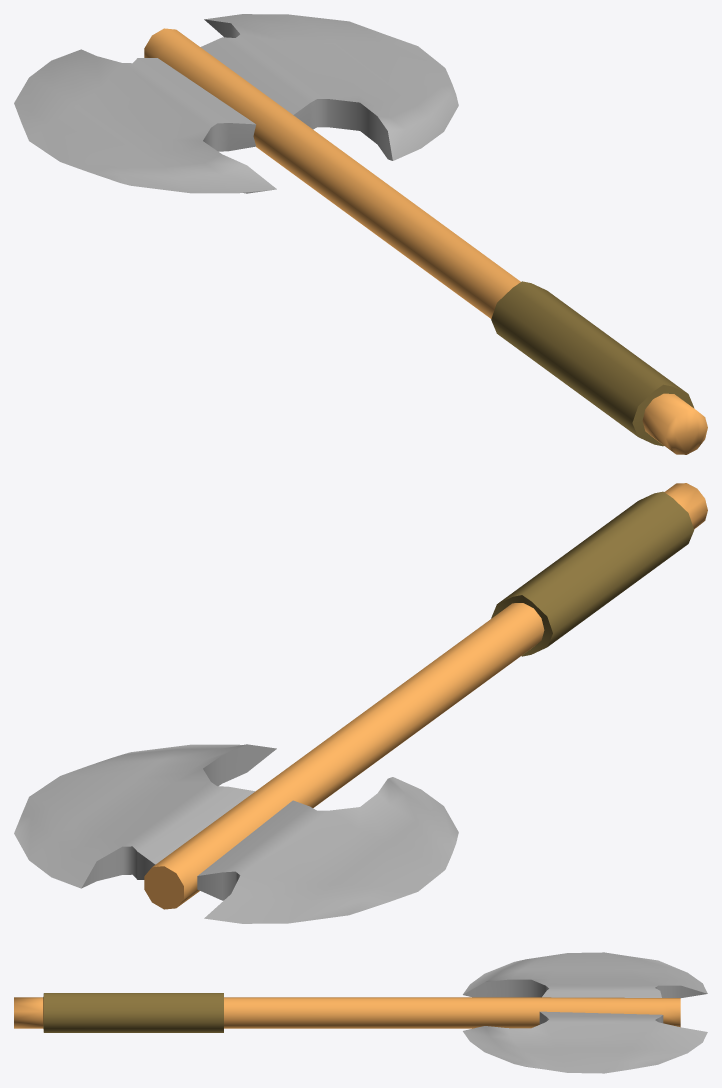
3 views of the same model, one above another, from view 1: azimuth 30°, elevation 25°; view 2: azimuth 150°, elevation 25°; view 3: azimuth 270°, elevation 25° (orthographic). The views are drawn at different scales.
Parts seen in each view (by area): view 1: Plane.050; view 2: Plane.050; view 3: Plane.050.
Part boxes in pixels (left/top/right/bottom): Plane.050: left=14, top=14, right=707, bottom=454; Plane.050: left=14, top=483, right=707, bottom=923; Plane.050: left=14, top=952, right=707, bottom=1073.
Size of the model in its own units: 131 by 19.83 by 317.
